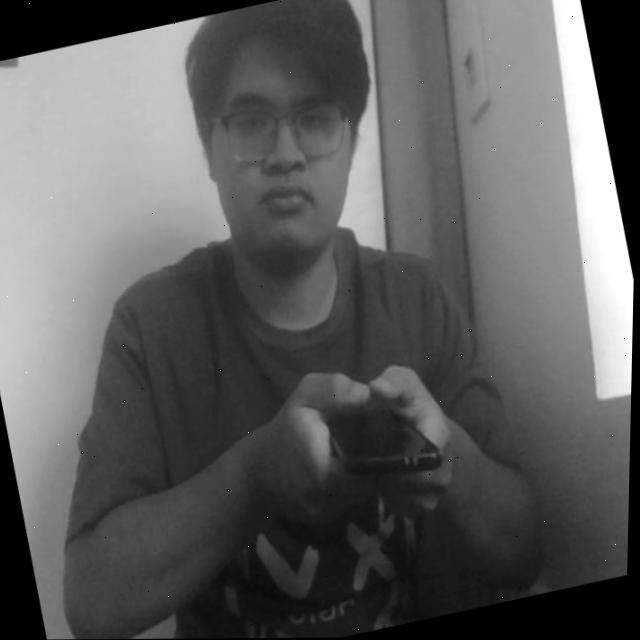phone: (278, 338, 475, 528)
